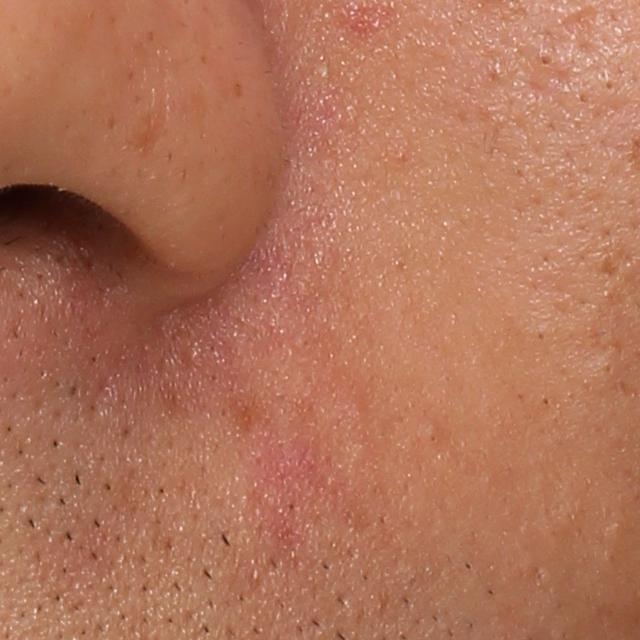atrophic_scar: (563, 4, 616, 57)
comedo: (595, 350, 621, 383), (531, 49, 557, 74), (418, 424, 440, 448), (599, 75, 618, 96)
